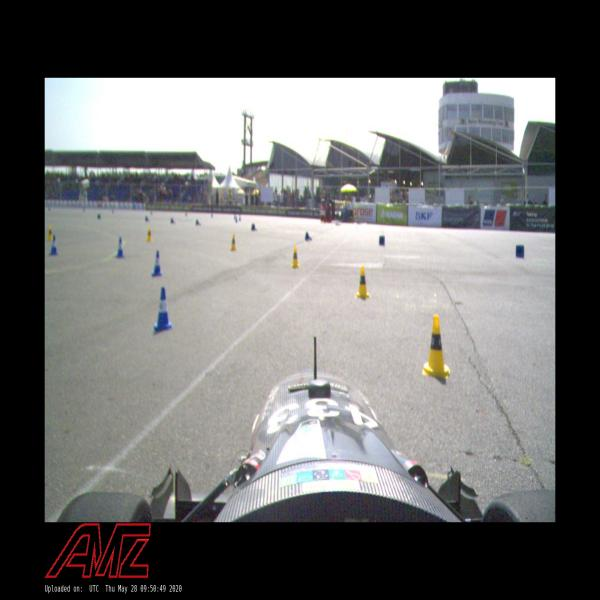blue_cone: (152, 286, 173, 333), (151, 250, 163, 276), (115, 235, 125, 259), (50, 232, 59, 256), (305, 231, 312, 241), (195, 218, 202, 227), (251, 223, 257, 232), (170, 217, 176, 224), (145, 216, 150, 222)
yellow_cone: (422, 313, 450, 379), (355, 265, 370, 298), (291, 246, 300, 268), (46, 224, 54, 242), (229, 233, 237, 251), (145, 226, 153, 242)
